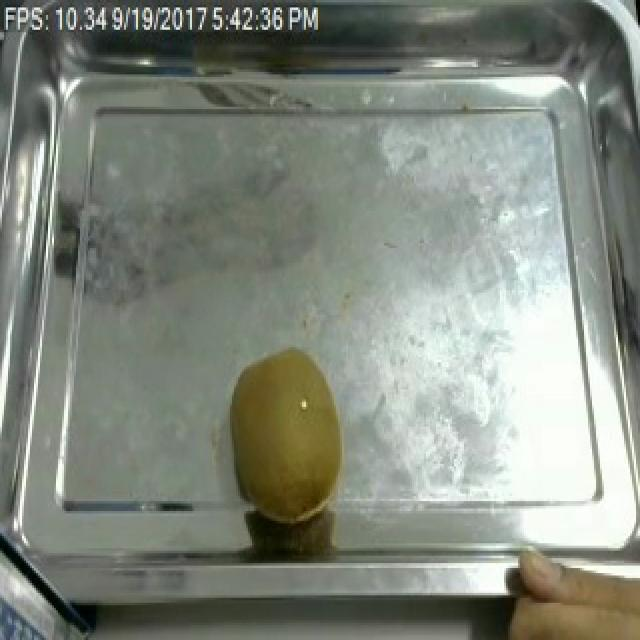Fruit: (220, 342, 356, 531), (490, 545, 640, 640)
